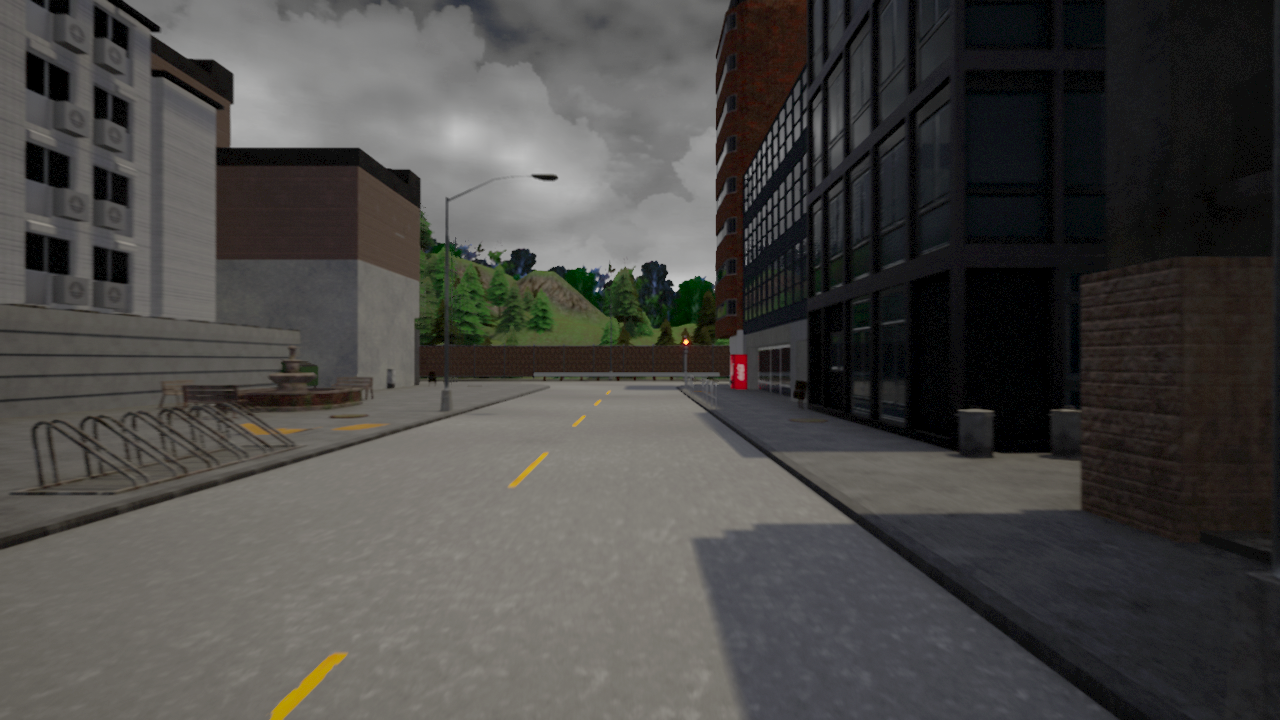red: (683, 338, 690, 354)
